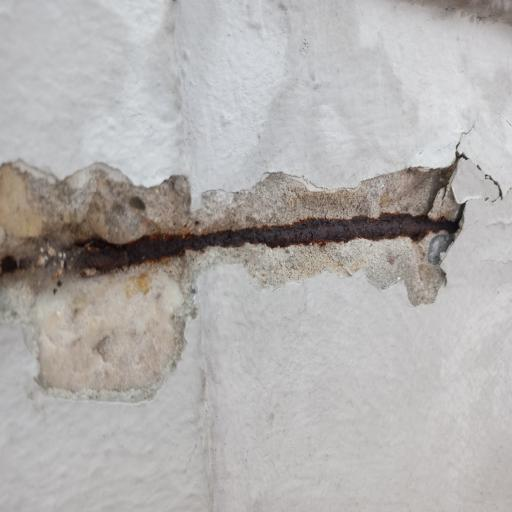exposed_rebar: (72, 213, 458, 272)
spalling: (0, 156, 464, 400)
